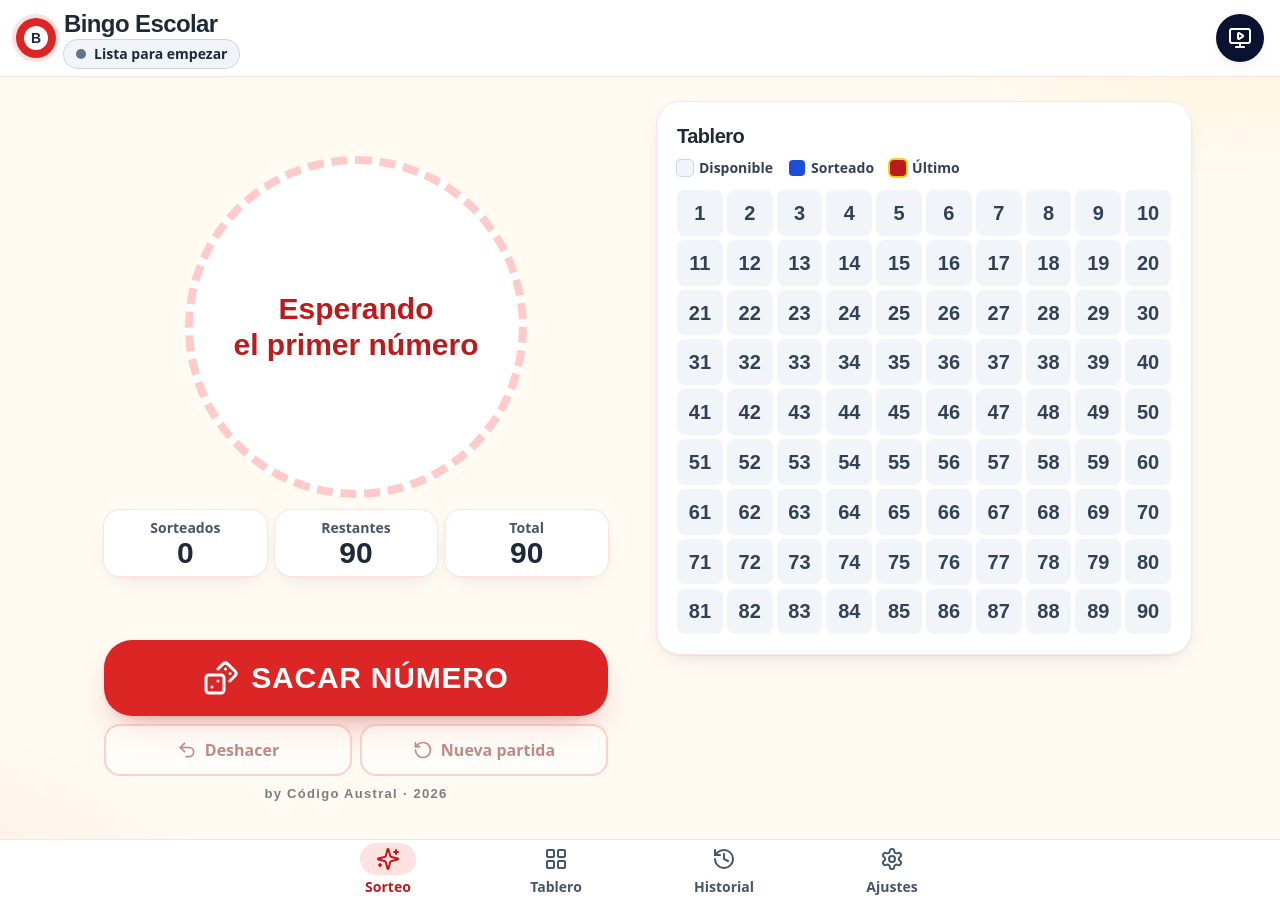
App: voz › sin speechSynthesis: avisa en Ajustes y sortea igual
What coordinates should you click on to do the following:
click the button "Sacar número"
I would click on:
 (356, 678)
Its box is [104,640,608,716].
Wait 800 ms
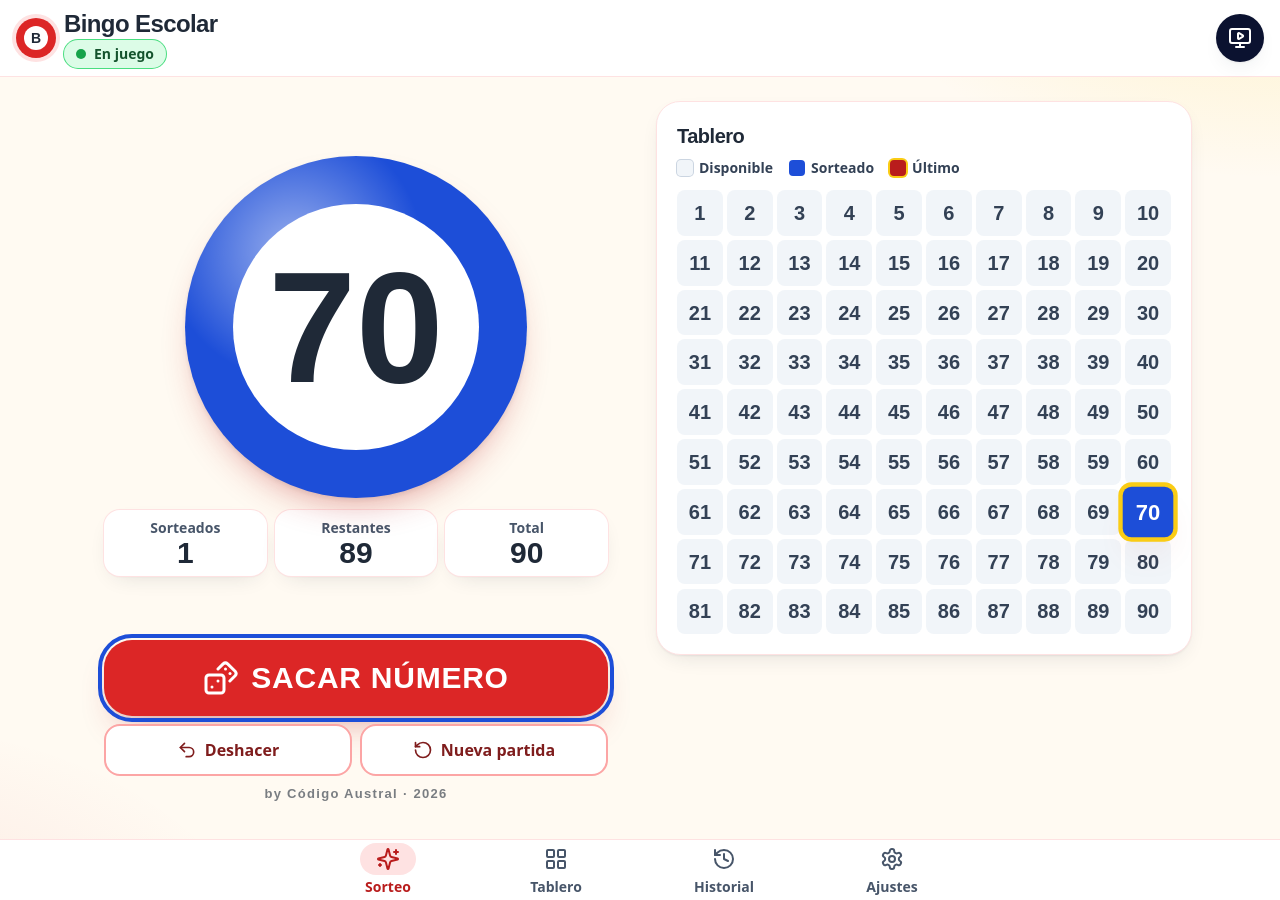
What coordinates should you click on to do the following:
click the button "Ajustes"
I would click on:
 (892, 870)
Its box is [808,840,976,899].
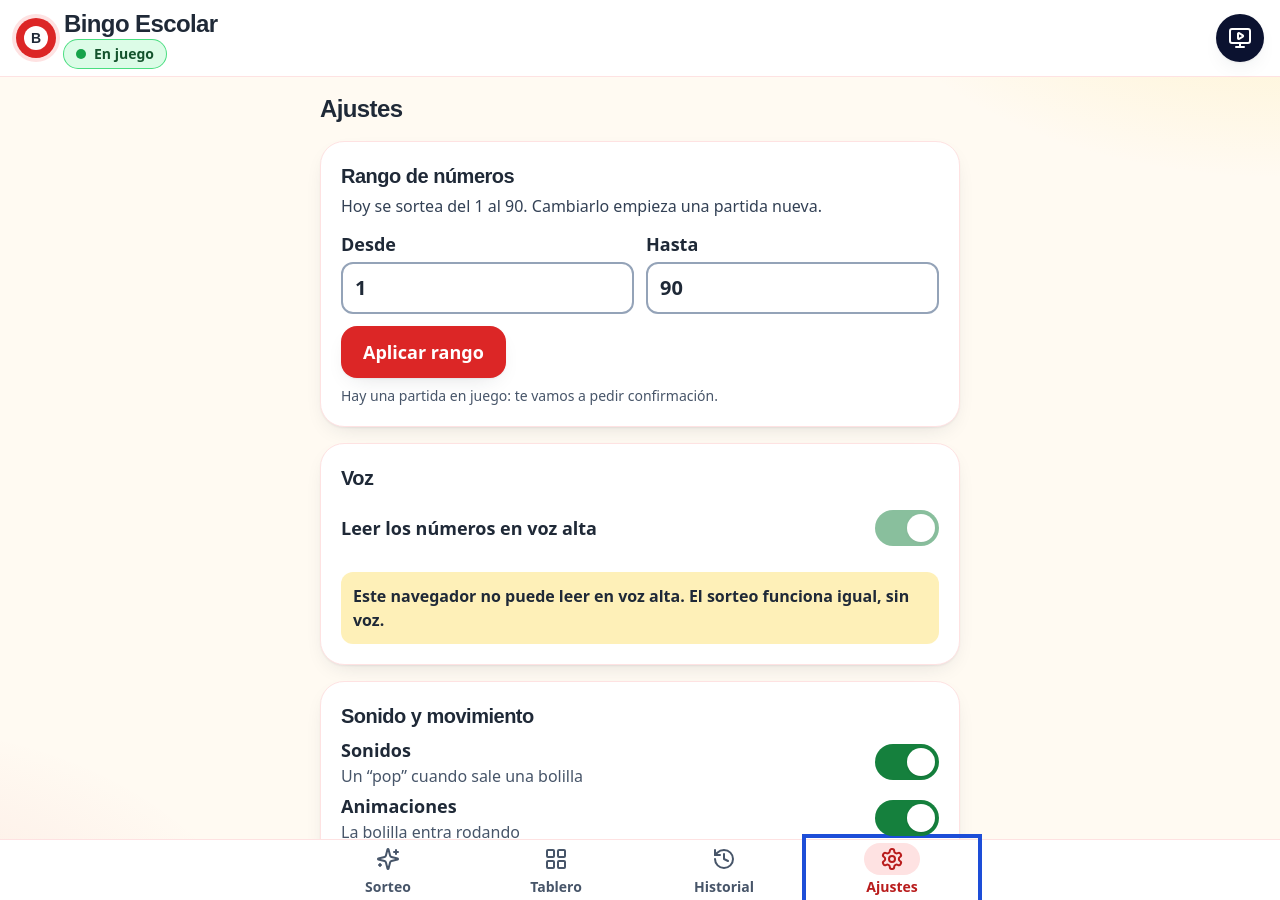
Now the text "no puede leer en voz alta" is shown, box [353,585,909,631]
Now the switch named "leer los números" in the row of "Leer los números en voz alta" is disabled, box [875,510,939,546]
